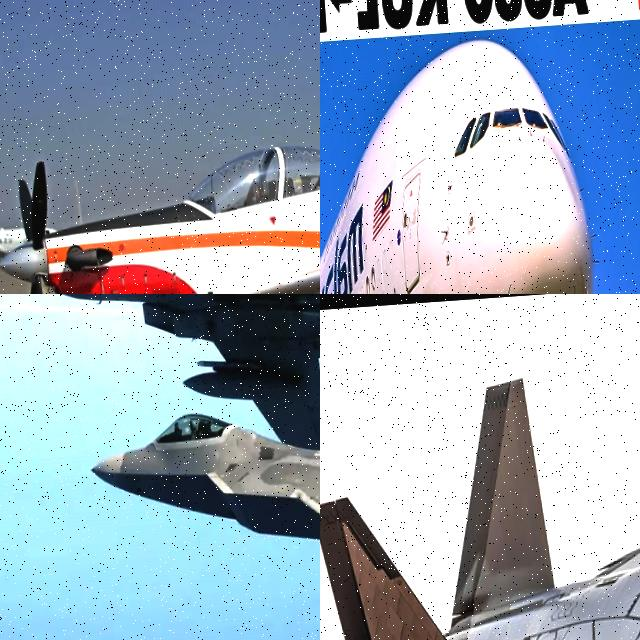A380: (320, 20, 640, 294)
F22: (320, 350, 640, 640), (82, 335, 320, 592), (30, 294, 320, 490)
KT-1: (0, 80, 320, 294)
